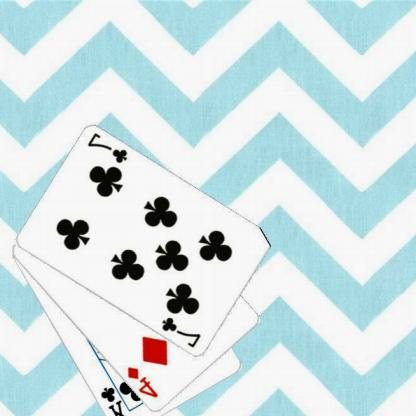4D: (126, 364, 162, 400)
7C: (87, 130, 131, 165), (161, 314, 204, 349)
KC: (99, 376, 135, 416)
